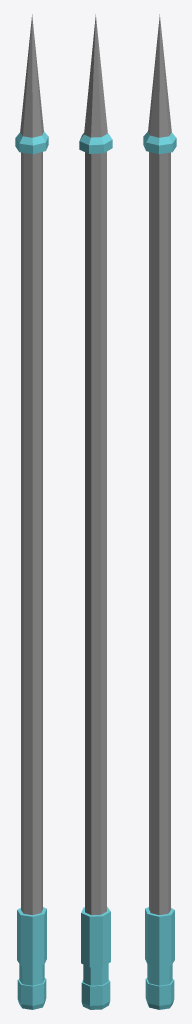
The model's file is Çöp Toplama Aleti.fbx.
3 views of the same model, side by side, from view 1: azimuth 30°, elevation 25°; view 2: azimuth 210°, elevation 25°; view 3: azimuth 330°, elevation 25° (orthographic).
Parts seen in each view (by area): view 1: Cylinder; view 2: Cylinder; view 3: Cylinder.
Boxes of the visible parts, left/top/right/bottom form: Cylinder: left=15, top=14, right=48, bottom=1009; Cylinder: left=79, top=14, right=112, bottom=1009; Cylinder: left=143, top=14, right=176, bottom=1009.
Bounding box in the file's own units: 10.02 × 325 × 9.07.
